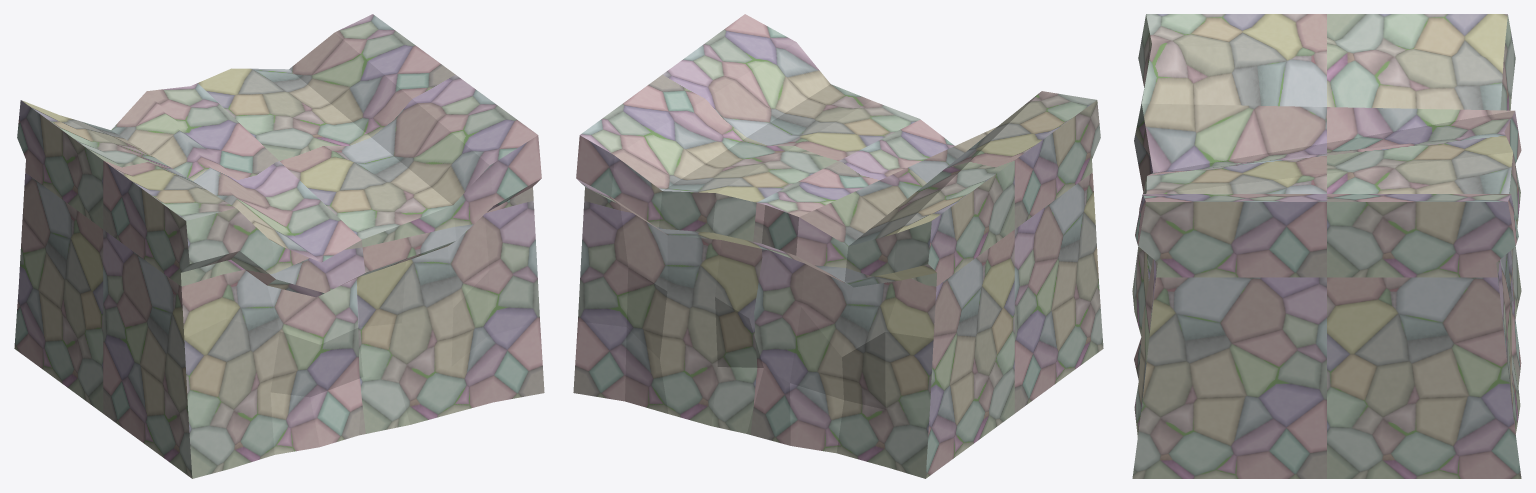
The model's file is 폐허벽.fbx.
The picture shows the model from 3 angles, left to right: view 1: azimuth 30°, elevation 25°; view 2: azimuth 150°, elevation 25°; view 3: azimuth 270°, elevation 25°; orthographic projection. The views are drawn at different scales.
Visible parts, largest first — view 1: 폐허벽; view 2: 폐허벽; view 3: 폐허벽.
Part boxes in pixels (x1,y1,x2,y2): 폐허벽: (14, 14, 544, 478); 폐허벽: (573, 14, 1103, 478); 폐허벽: (1132, 14, 1521, 478).
Size of the model in its own units: 800 by 550 by 700.
Materials: 1 (1 with a texture image).
